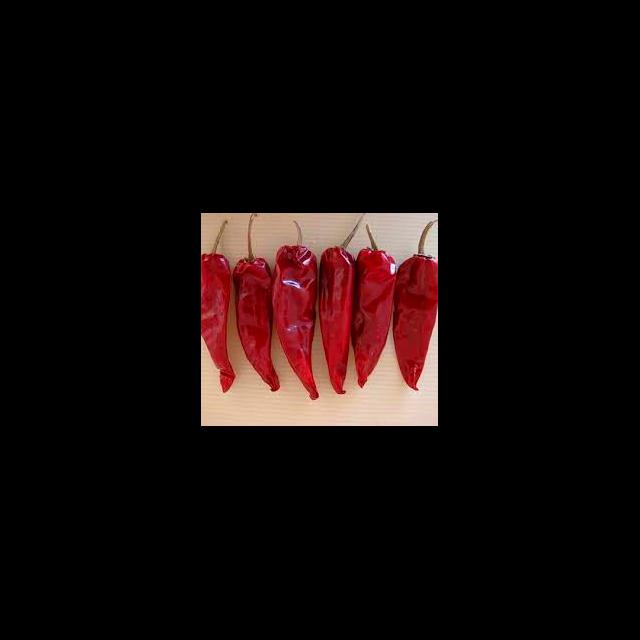chili_pepper: (276, 243, 322, 403), (232, 256, 282, 392), (392, 252, 438, 390), (316, 246, 358, 392), (357, 243, 396, 387), (202, 252, 236, 392)
